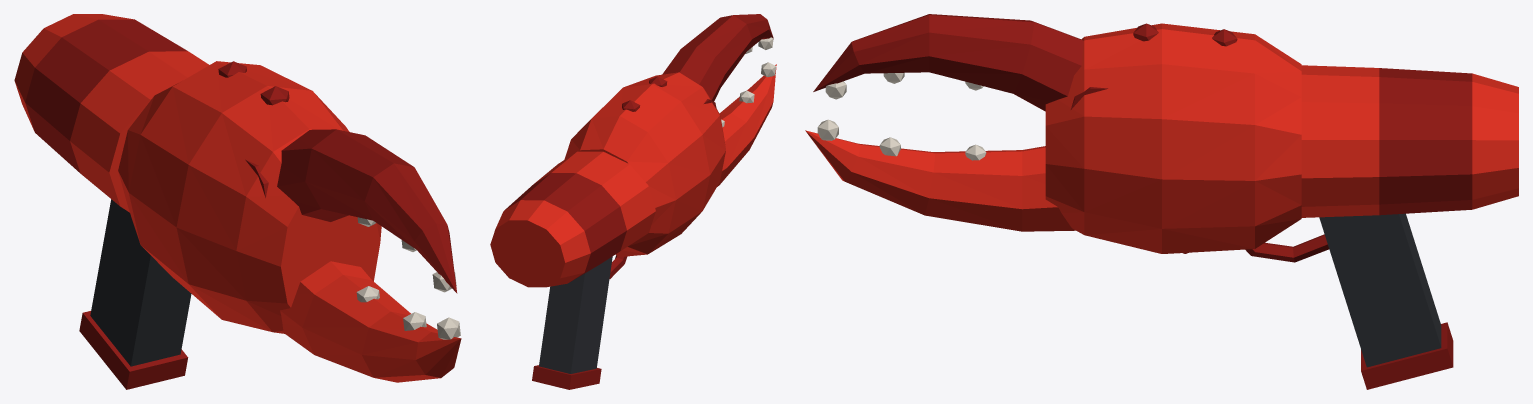
The model's file is LobsterClaw.obj.
3 views of the same model, side by side, from view 1: azimuth 30°, elevation 25°; view 2: azimuth 150°, elevation 25°; view 3: azimuth 270°, elevation 25° (orthographic). The views are drawn at different scales.
Parts seen in each view (by area): view 1: LobsterClaw; view 2: LobsterClaw; view 3: LobsterClaw.
Boxes of the visible parts, x1,y1,x2,y2 form: LobsterClaw: (14,14,461,389); LobsterClaw: (490,14,776,389); LobsterClaw: (805,14,1518,389).
Size of the model in its own units: 0.124 by 0.2572 by 0.46.
